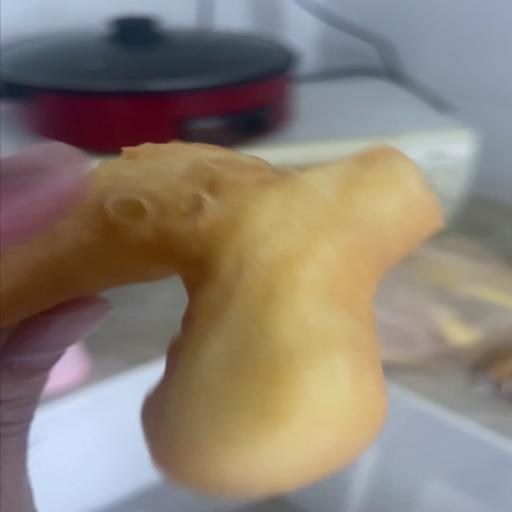street_golden_defect: (1, 142, 445, 500)
